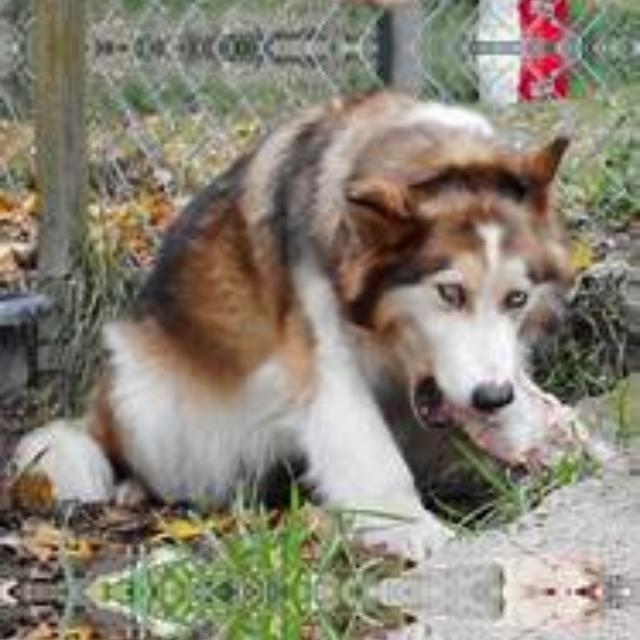dog: (47, 61, 580, 592), (46, 591, 579, 640), (46, 0, 579, 33)
